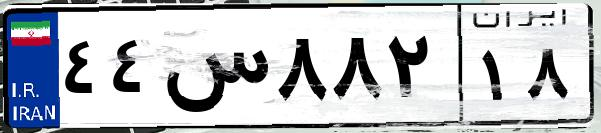1: (475, 38, 525, 113)
2: (385, 28, 445, 110)
4: (57, 26, 110, 100), (110, 28, 158, 98)
8: (270, 28, 330, 110), (330, 28, 385, 110), (525, 38, 570, 115)
س: (158, 20, 270, 120)
